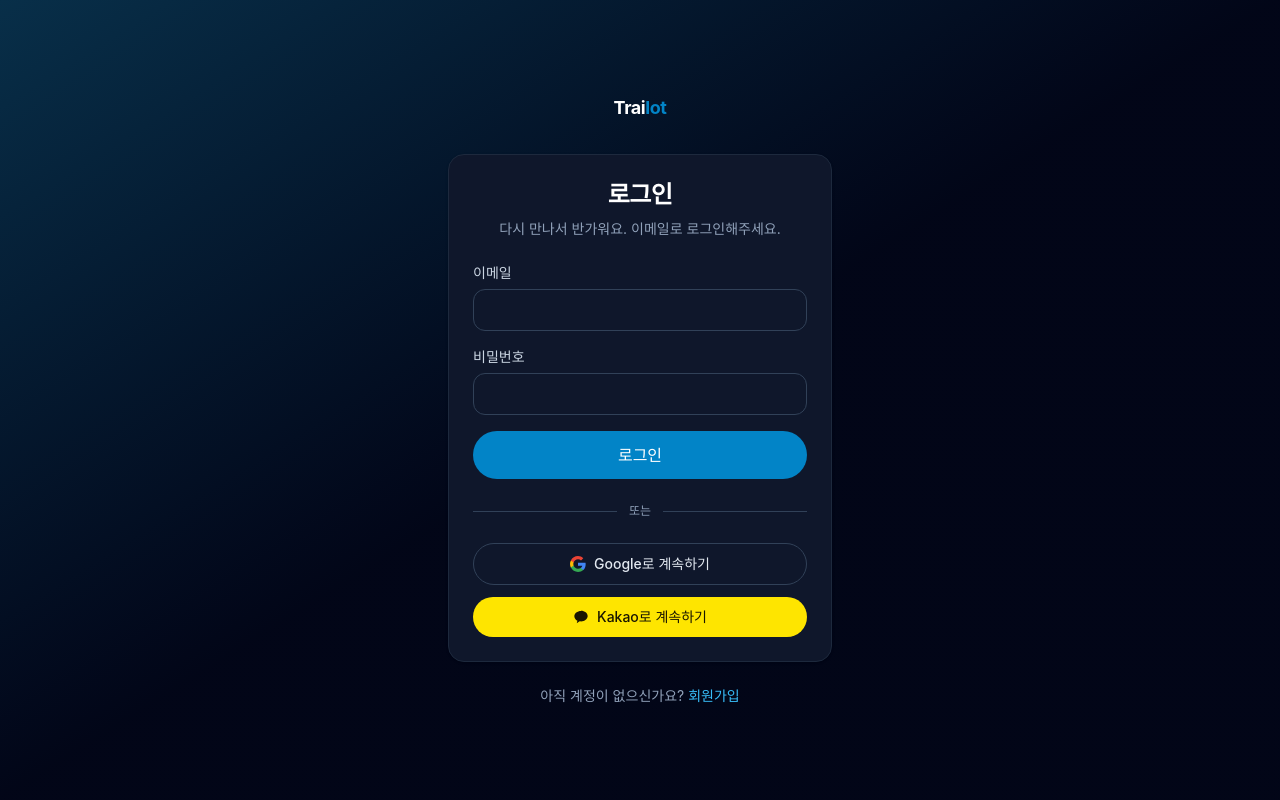
Test case: LoginPage › shows an error and does not sign in when the password is wrong
Type "user@example.com" into the field labelled "이메일" at (640, 310), box x1=473 y1=289 x2=807 y2=331
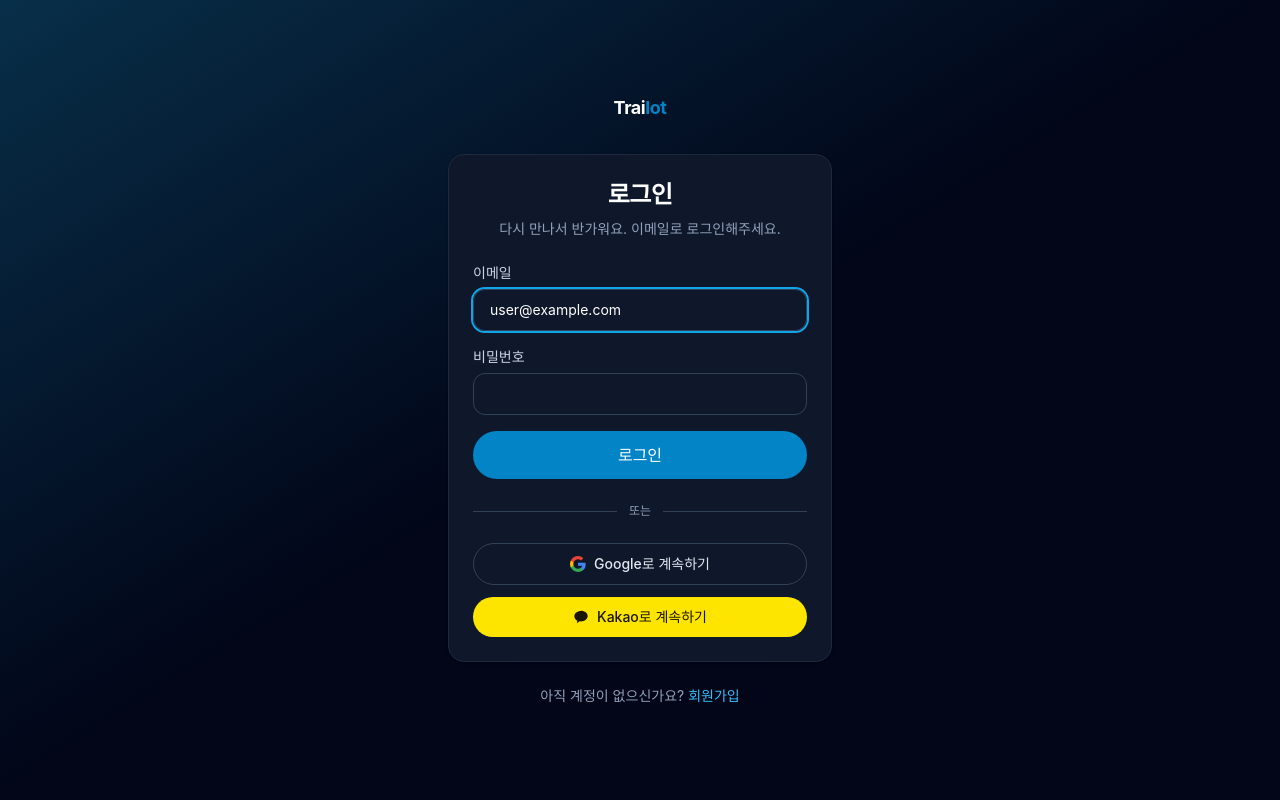
Type "wrongpassword" into the password field labelled "비밀번호" at (640, 394), box x1=473 y1=373 x2=807 y2=415
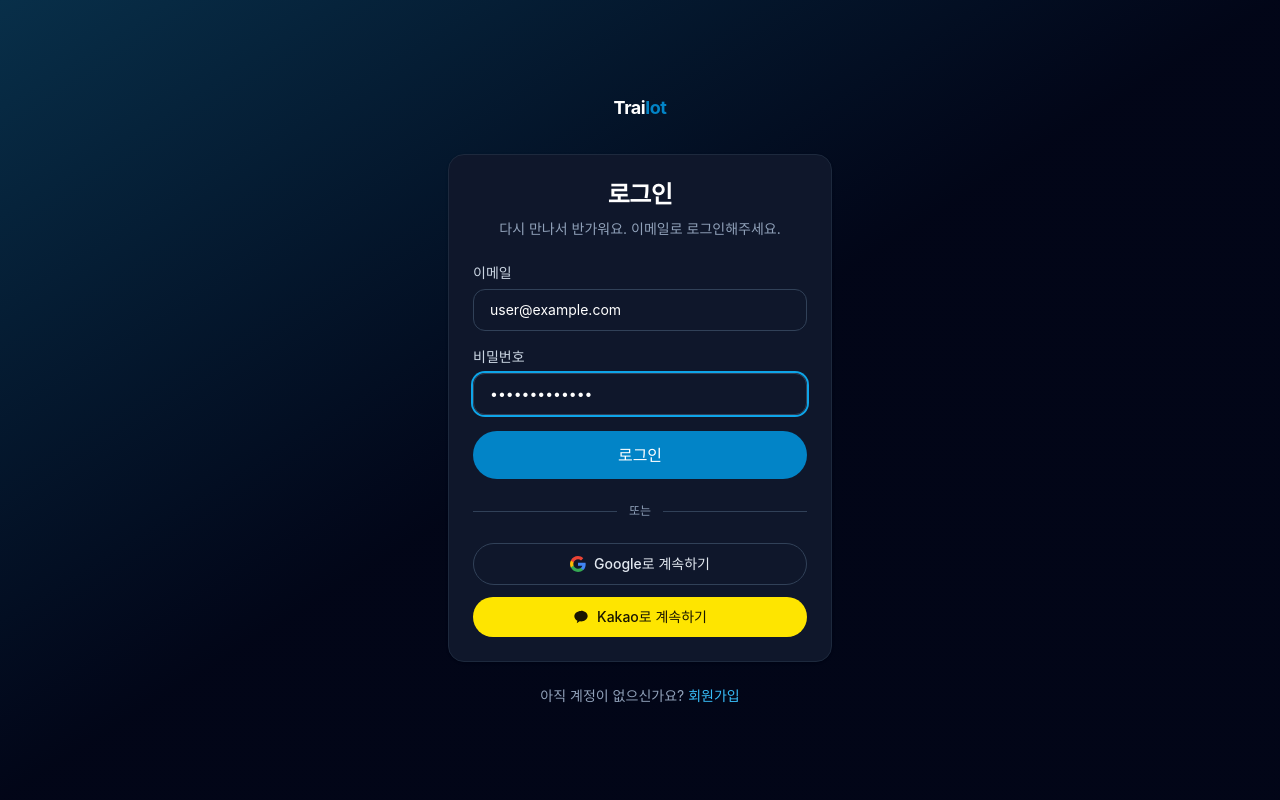
Click the button "로그인" at (640, 455), box x1=473 y1=431 x2=807 y2=479
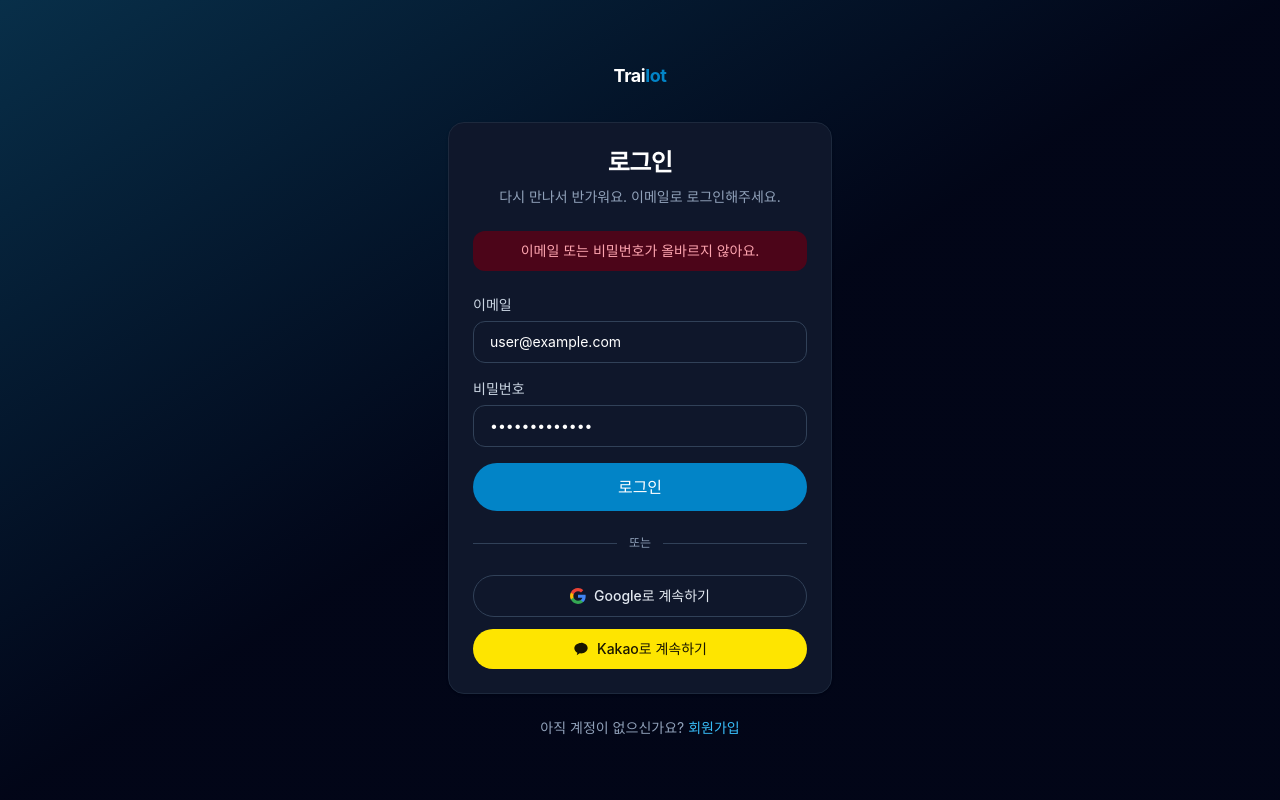
Expected: the text "이메일 또는 비밀번호가 올바르지 않아요." is shown, x1=473 y1=231 x2=807 y2=271
